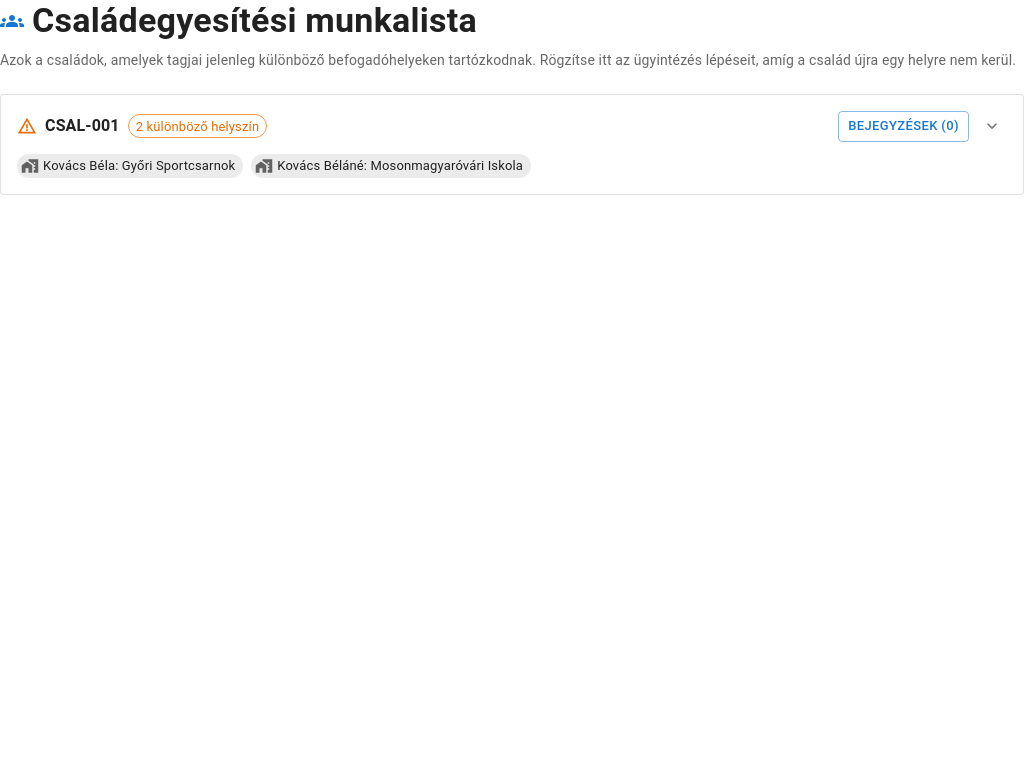
it: FamilyReunificationPage › üres bejegyzés-szöveggel nem küldhető be a bejegyzés
Expected: the text "CSAL-001" is shown, [45,114,120,138]
Click the button "Bejegyzések (0)": (904, 126) [838,111,969,142]
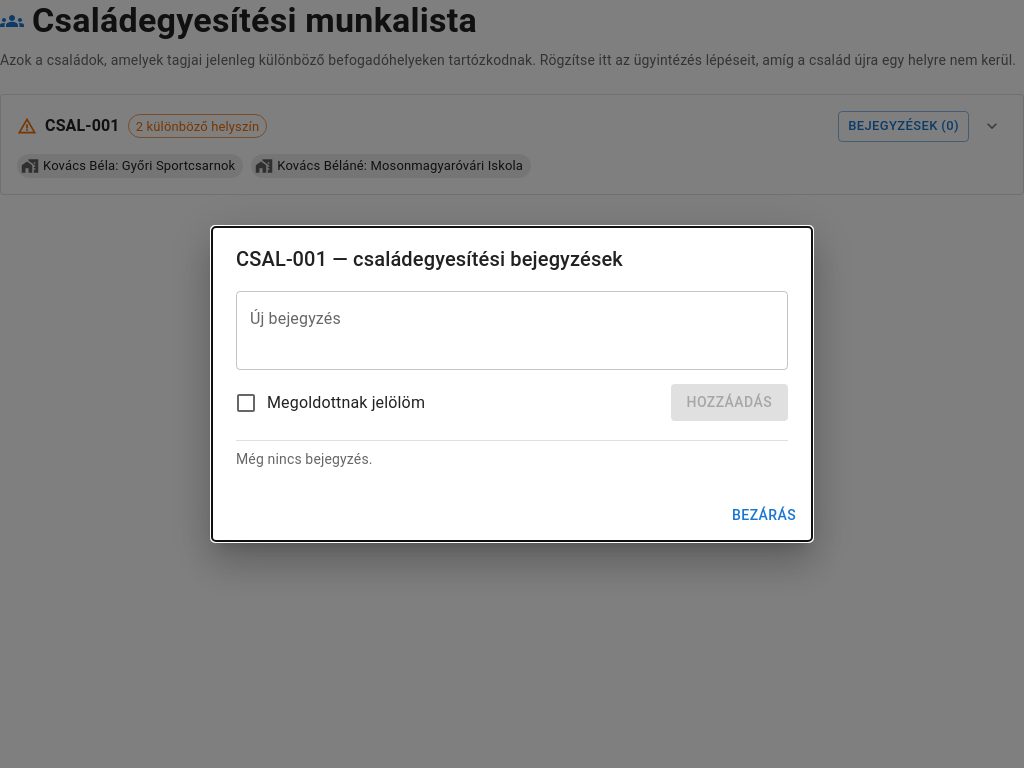
Expected: the heading "CSAL-001 — családegyesítési bejegyzések" is shown, [236,247,623,271]
Expected: the button "Hozzáadás" is disabled, [671,384,788,421]
